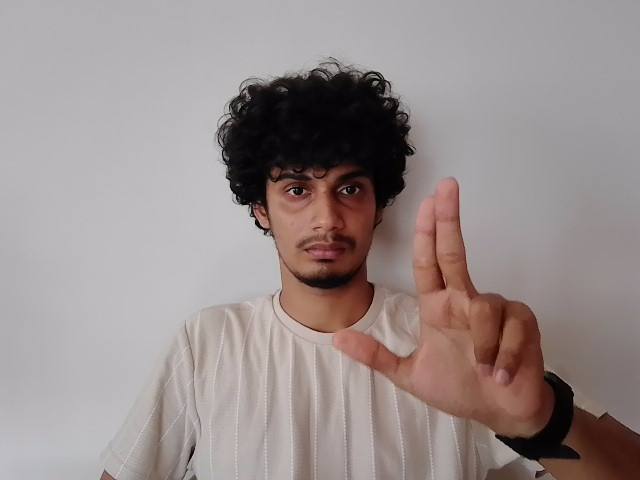no: (339, 172, 549, 417)
